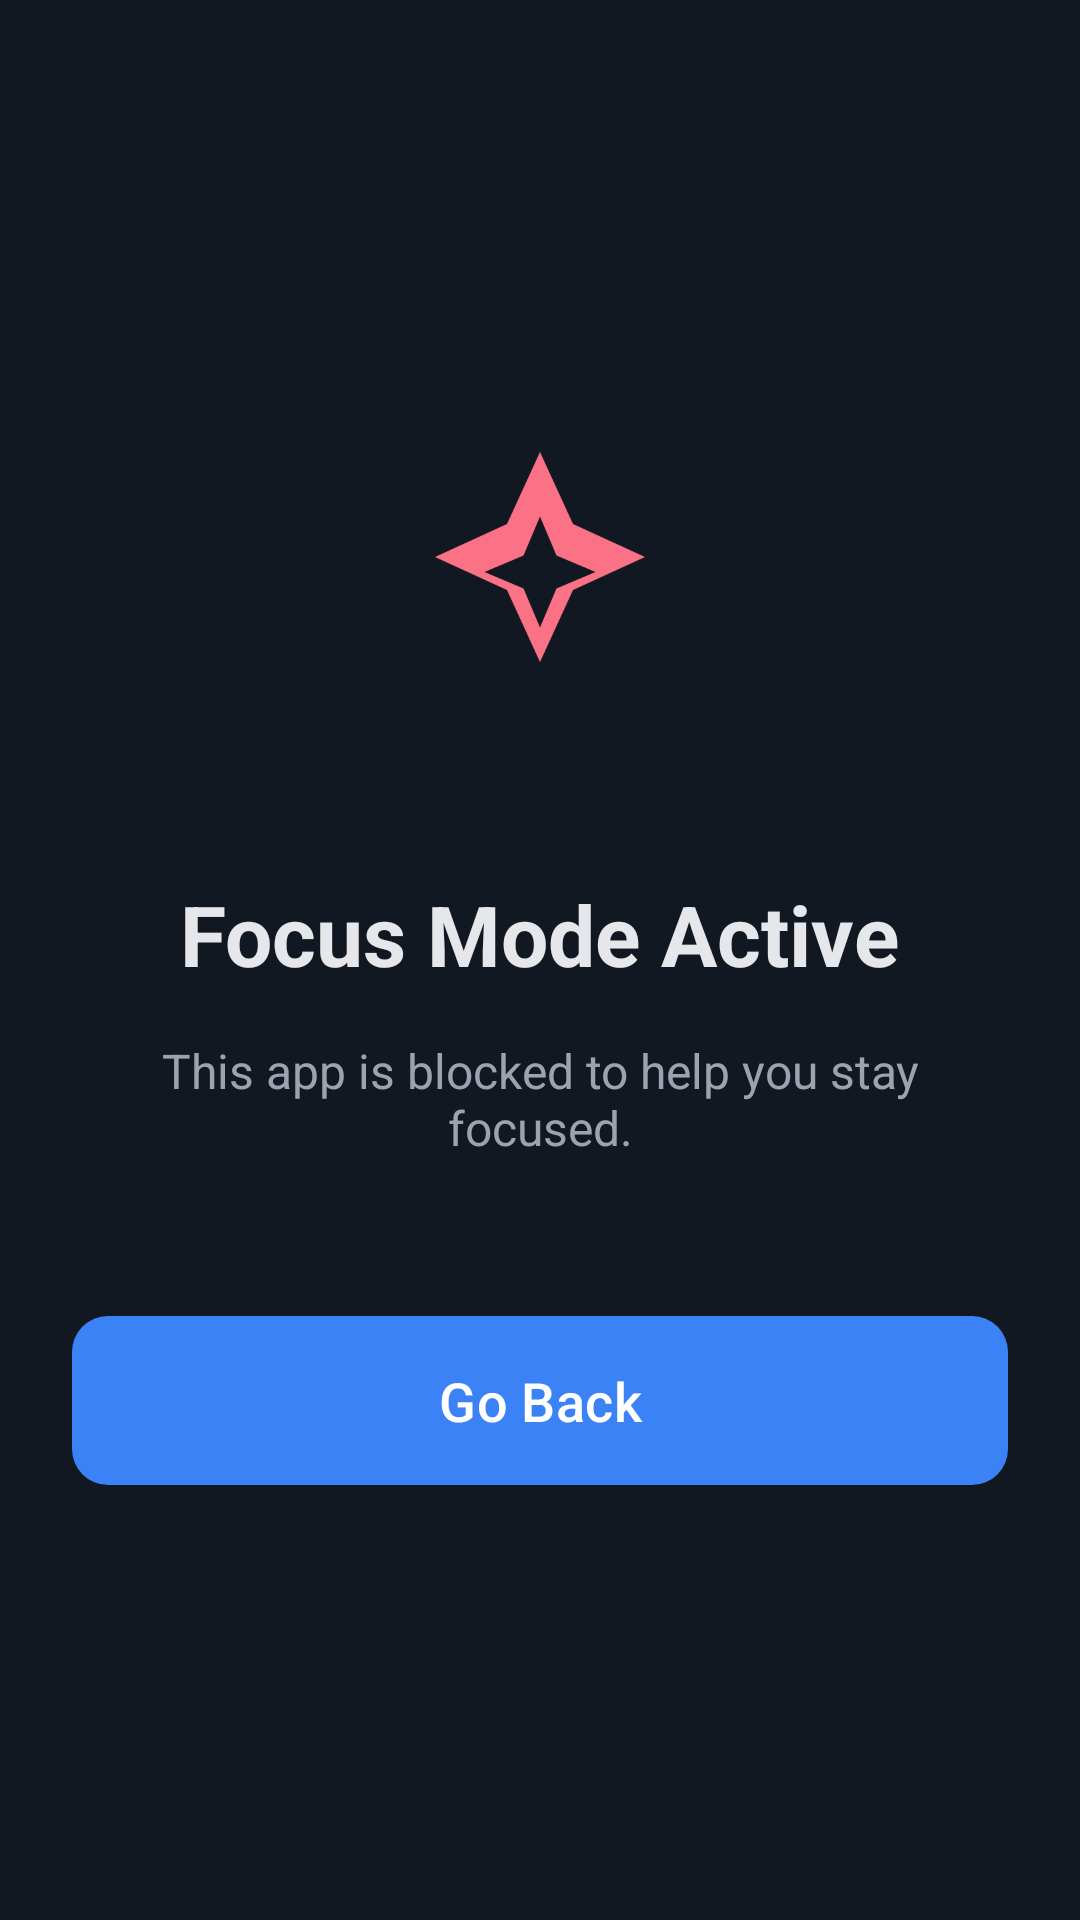

Point at icon controls on the screen. Image size 1080×1920, points as (x,y).
mission focus: (540,557)
